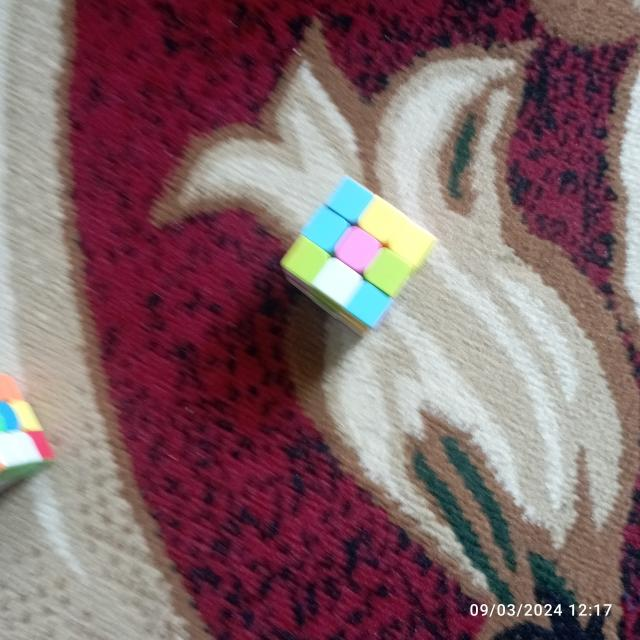Rub: (278, 174, 440, 340), (0, 363, 58, 498)
